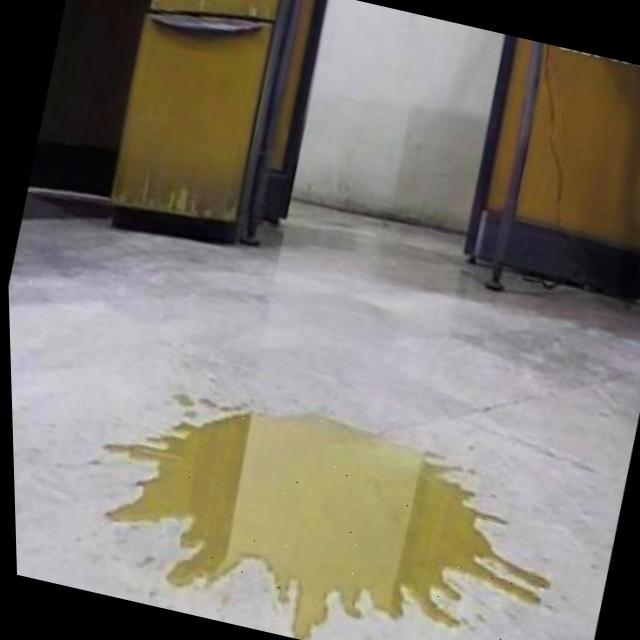spillage: (106, 413, 539, 640)
